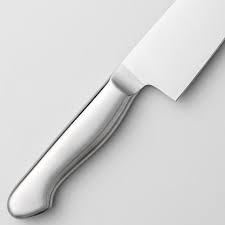Knife: (6, 0, 224, 218)
